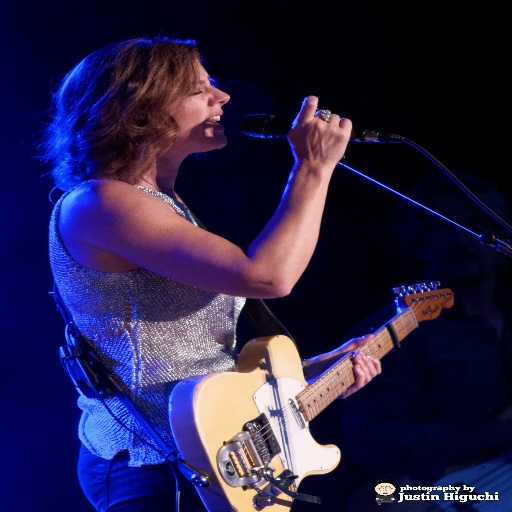hand: (302, 332, 384, 398), (290, 96, 358, 173)
